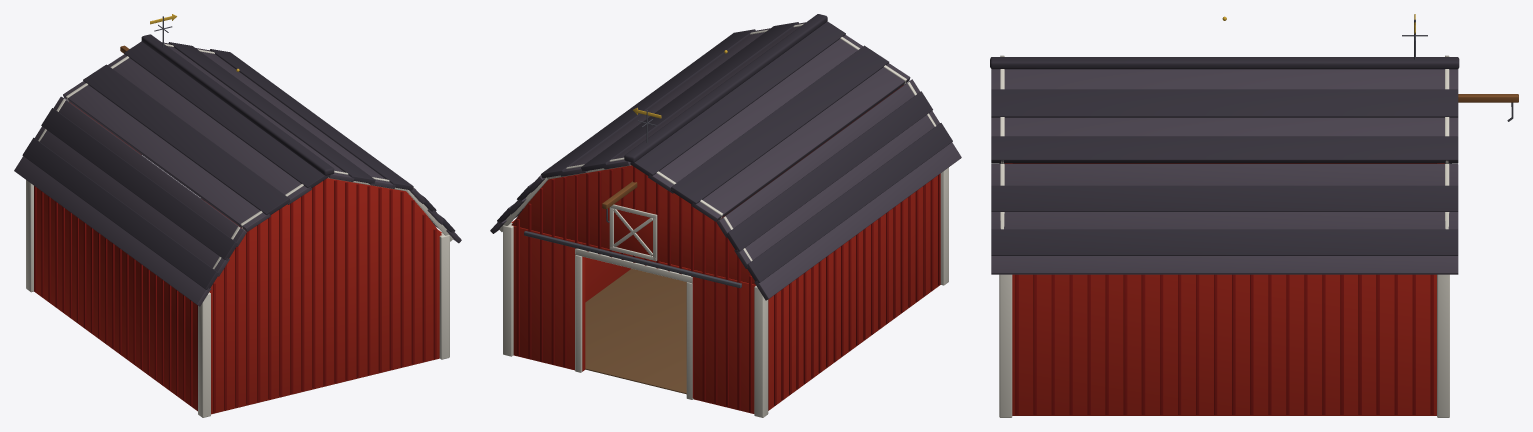
The model's file is barn.glb.
3 views of the same model, side by side, from view 1: azimuth 30°, elevation 25°; view 2: azimuth 150°, elevation 25°; view 3: azimuth 270°, elevation 25° (orthographic). The views are drawn at different scales.
Parts seen in each view (by area): view 1: barn; view 2: barn; view 3: barn.
Boxes of the visible parts, x1,y1,x2,y2 form: barn: (14, 14, 461, 417); barn: (490, 14, 961, 417); barn: (990, 14, 1518, 417).
Bounding box in the file's own units: 9.01 × 8.28 × 12.23.
